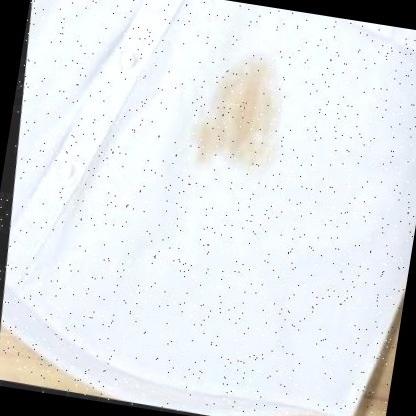coffee: (212, 63, 282, 164)
